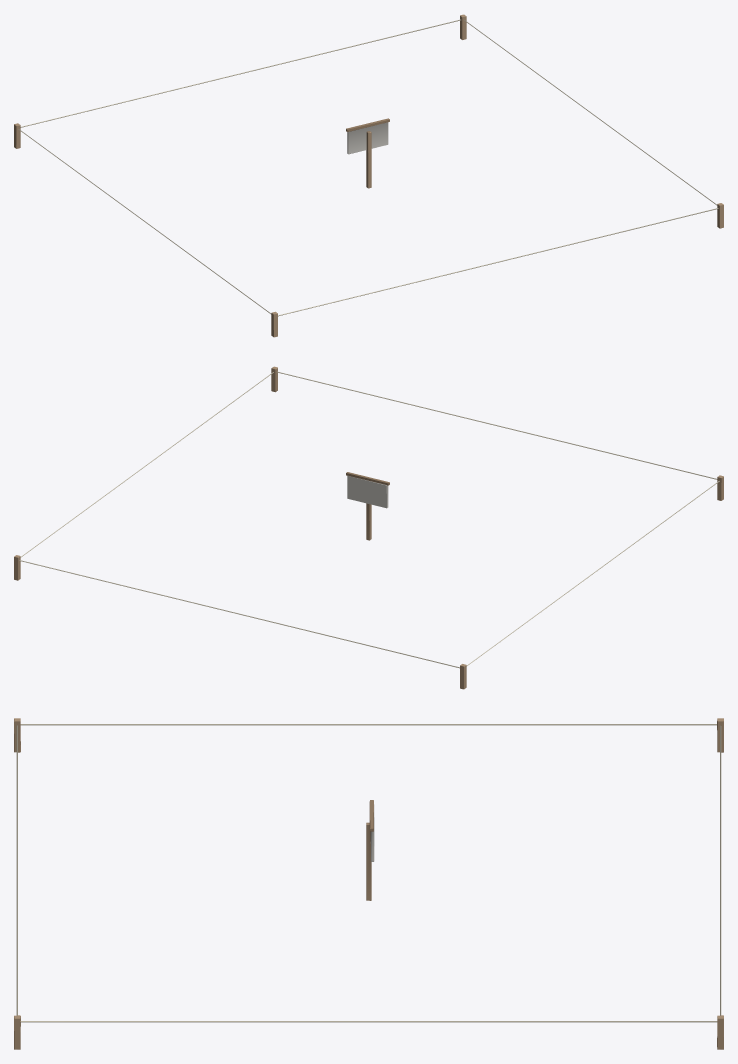
The model's file is home_lot_sign__base_low.glb.
3 renders of one model, top to bottom at view 1: azimuth 30°, elevation 25°; view 2: azimuth 150°, elevation 25°; view 3: azimuth 270°, elevation 25°, orthographic. The views are drawn at different scales.
Bounding box in the file's own units: 10.1 × 1.35 × 10.1.
